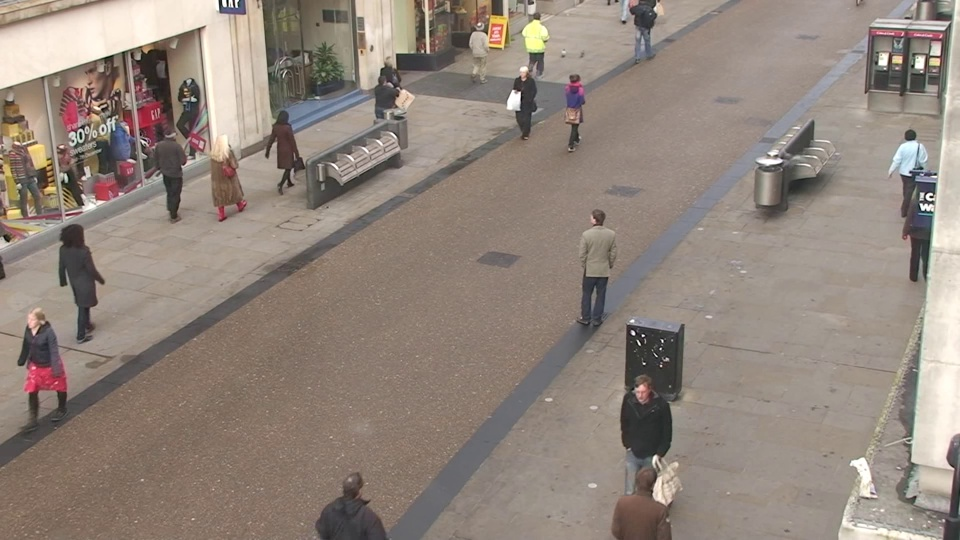pedestrian: (11, 301, 78, 444), (615, 370, 669, 531), (53, 220, 108, 341), (615, 453, 675, 540), (325, 461, 390, 540), (884, 125, 930, 226), (580, 203, 618, 323), (155, 123, 194, 218), (205, 129, 243, 226), (268, 106, 302, 198), (369, 71, 399, 154), (561, 68, 589, 151), (511, 63, 539, 144), (375, 55, 404, 133), (468, 19, 493, 88), (524, 10, 547, 76)
